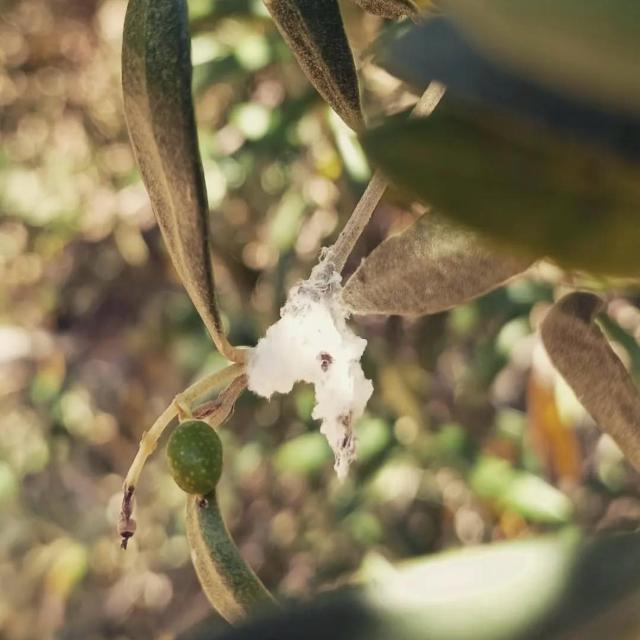Psyllid: (246, 243, 372, 479)
